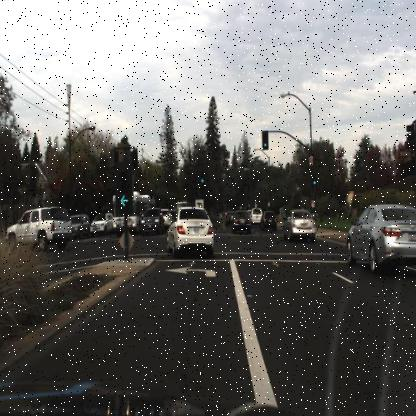car: (344, 201, 416, 276), (5, 204, 71, 253), (165, 207, 215, 258), (281, 208, 318, 244), (88, 209, 114, 237), (68, 210, 90, 240), (231, 207, 253, 235), (259, 207, 279, 233), (252, 204, 263, 228), (226, 208, 236, 226)
trafficLight: (262, 128, 269, 153), (200, 169, 205, 185)
trafficLight-Green: (311, 169, 317, 186)
trafficLight-GreenLeft: (115, 168, 133, 217)
truck: (109, 192, 157, 235)
